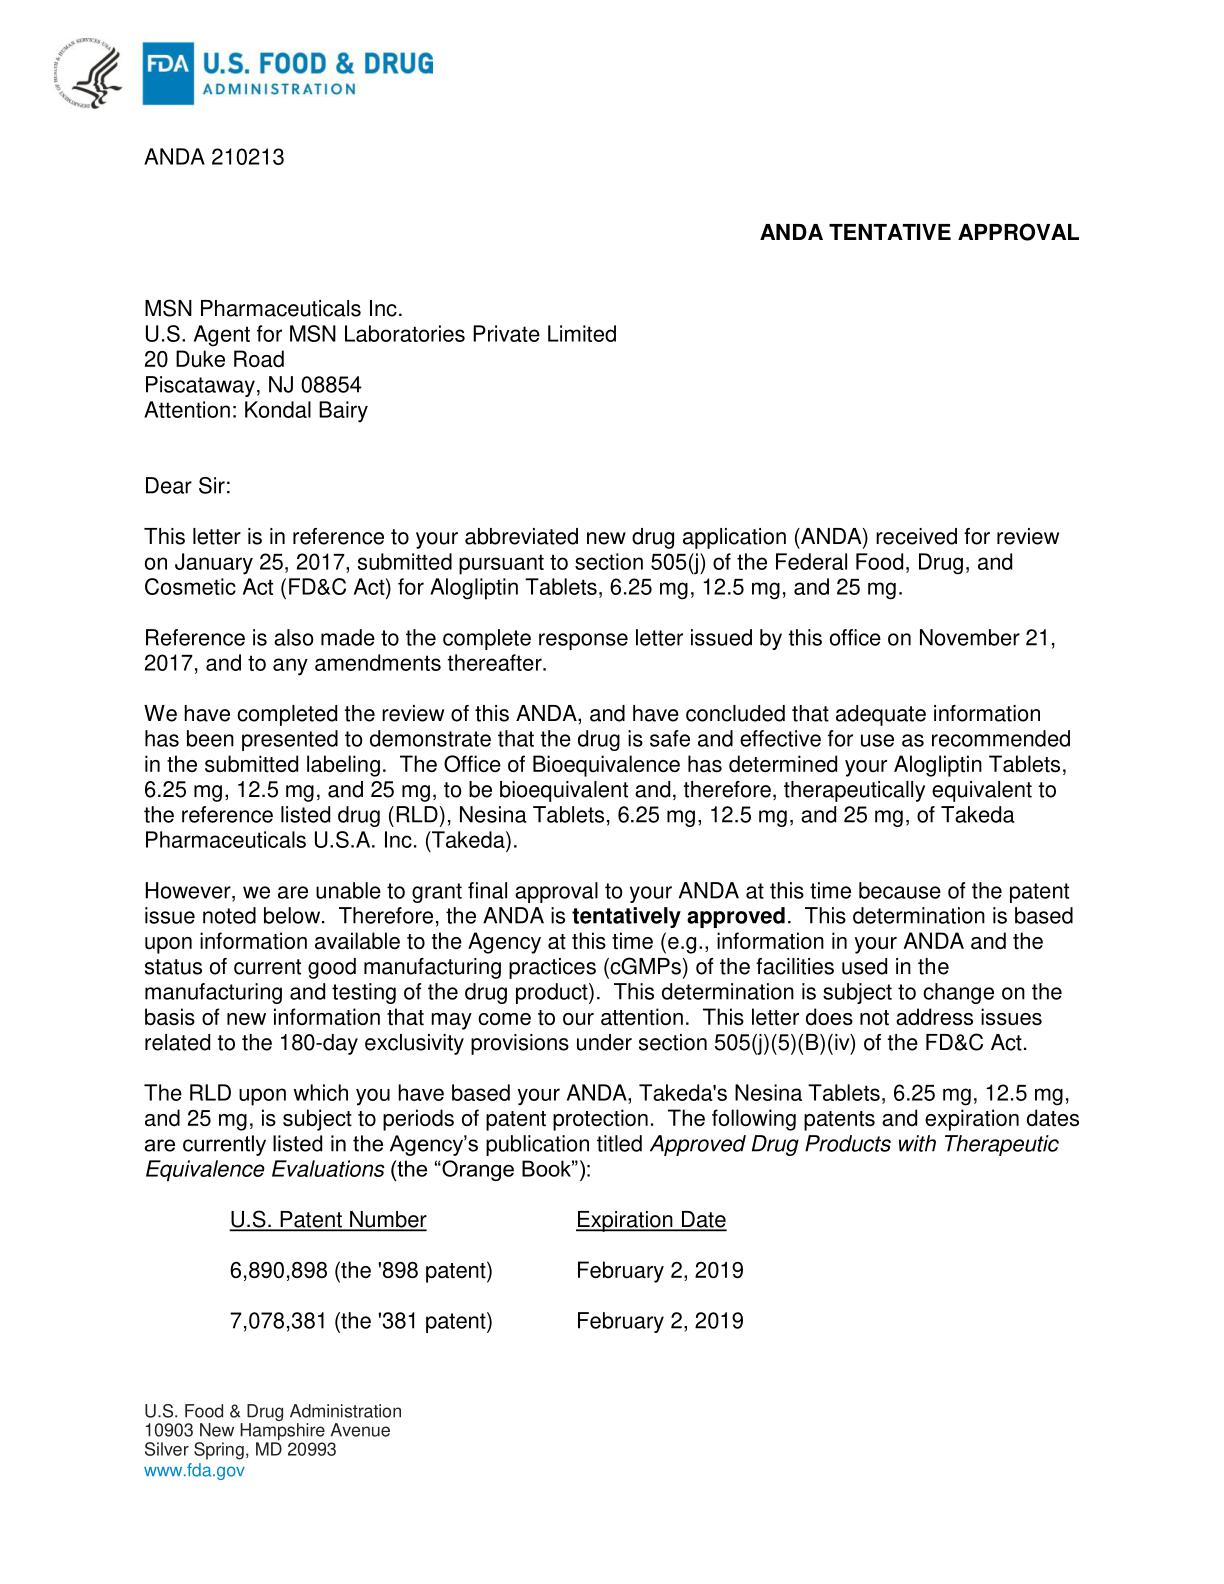nolines: (226, 1203, 750, 1332)
